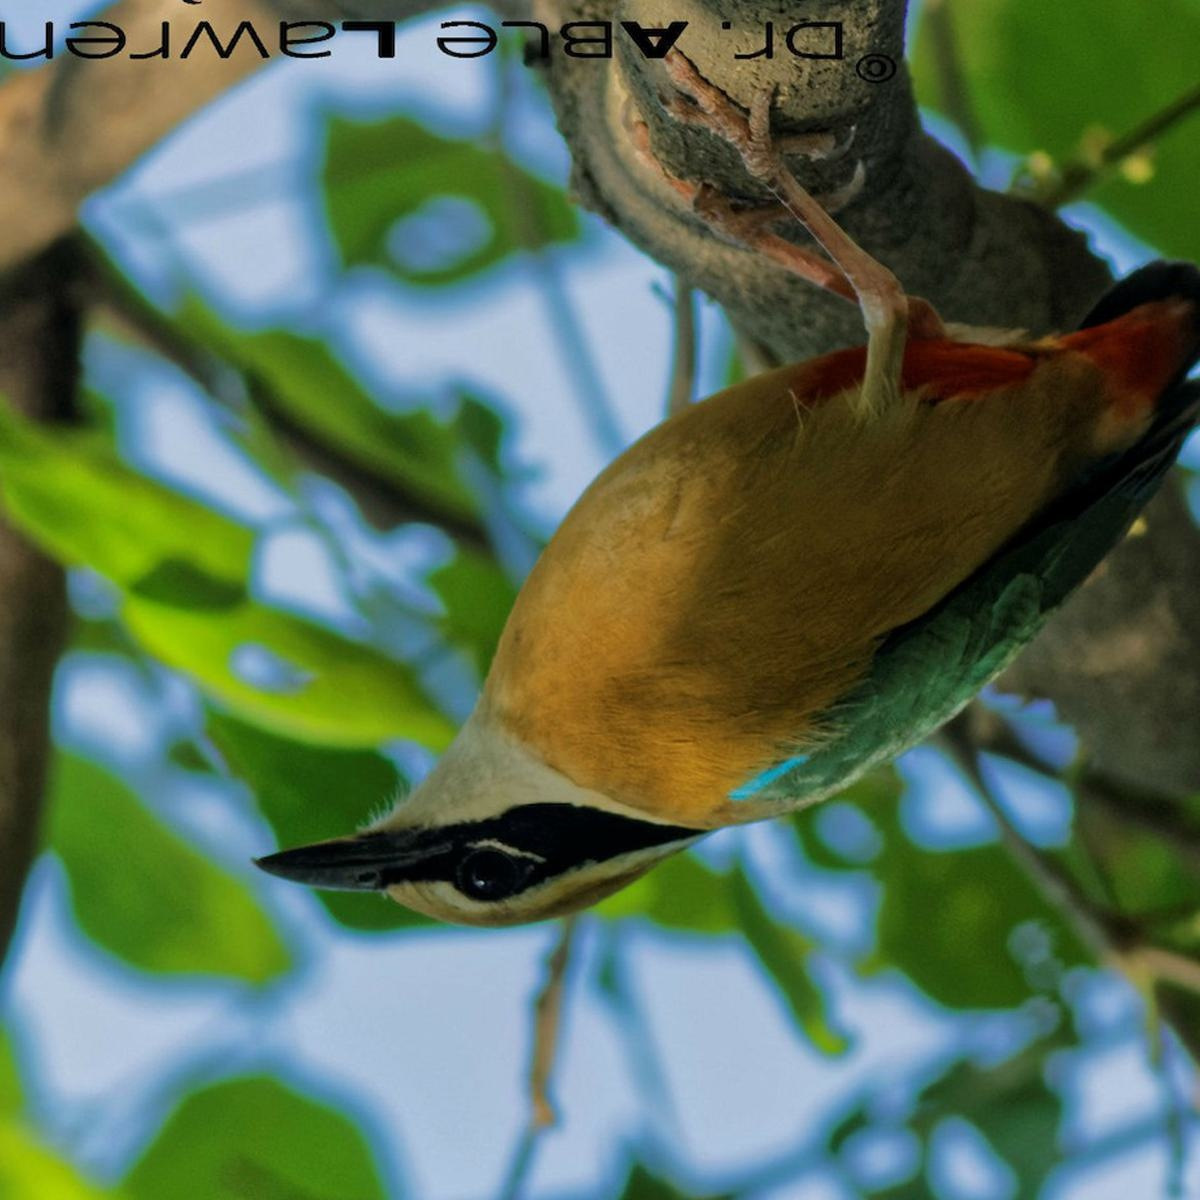pitta: (262, 173, 1200, 962)
